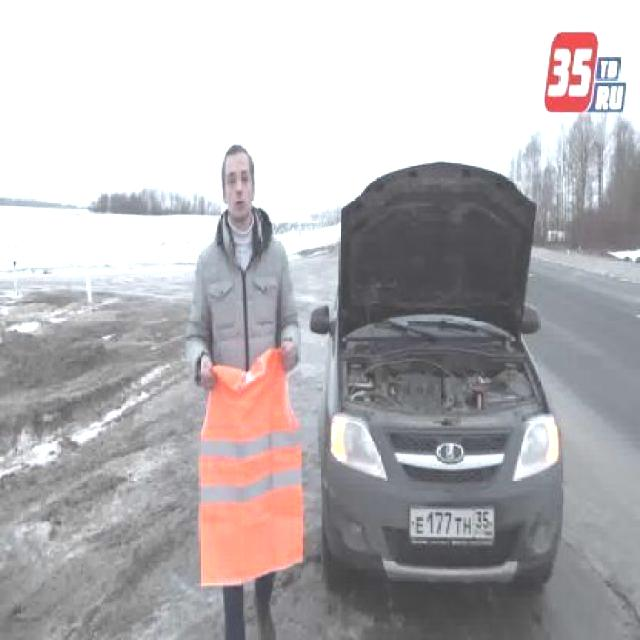Mask: (194, 346, 306, 594)
